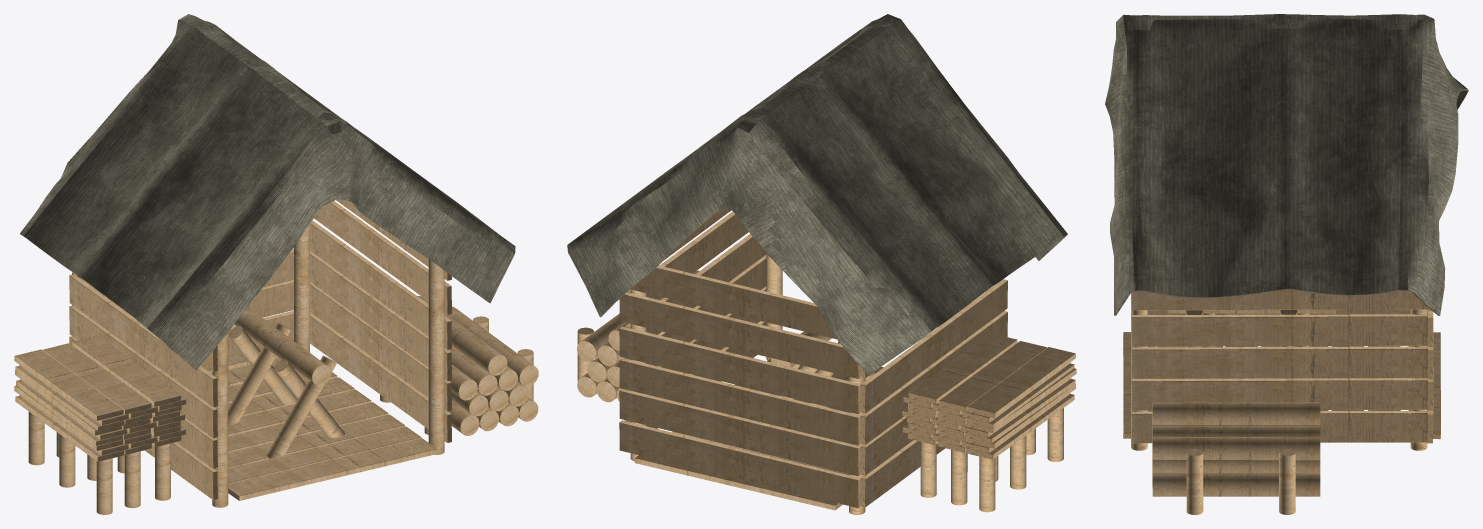
File: woodcutters_hut_stronghold_crusader_inspired.fbx
The picture shows the model from 3 angles, left to right: view 1: azimuth 30°, elevation 25°; view 2: azimuth 150°, elevation 25°; view 3: azimuth 270°, elevation 25°; orthographic projection. The views are drawn at different scales.
Parts seen in each view (by area): view 1: obj14, obj13, obj12, obj21, obj15, obj16, obj10, obj18, obj1, obj2, obj19, obj20 (+5 smaller); view 2: obj14, obj11, obj12, obj21, obj13, obj18, obj16, obj19, obj20, obj9, obj10; view 3: obj14, obj13, obj16, obj17, obj11, obj1, obj9, obj15, obj12, obj10.
Boxes of the visible parts, bbox=[...] form: obj14: bbox=[20, 14, 515, 370]; obj13: bbox=[310, 199, 451, 442]; obj12: bbox=[69, 274, 217, 500]; obj21: bbox=[14, 335, 186, 431]; obj15: bbox=[228, 307, 344, 458]; obj16: bbox=[417, 296, 538, 435]; obj10: bbox=[77, 224, 444, 507]; obj18: bbox=[28, 412, 170, 514]; obj1: bbox=[228, 438, 437, 500]; obj2: bbox=[228, 426, 421, 483]; obj19: bbox=[14, 385, 185, 461]; obj20: bbox=[15, 370, 185, 445]; obj14: bbox=[567, 14, 1067, 375]; obj11: bbox=[619, 265, 860, 507]; obj12: bbox=[860, 279, 1007, 507]; obj21: bbox=[903, 333, 1075, 428]; obj13: bbox=[624, 209, 766, 428]; obj18: bbox=[920, 408, 1063, 512]; obj16: bbox=[577, 270, 699, 402]; obj19: bbox=[903, 384, 1075, 459]; obj20: bbox=[902, 368, 1076, 443]; obj9: bbox=[634, 455, 842, 510]; obj10: bbox=[630, 253, 1000, 514]; obj14: bbox=[1105, 14, 1468, 315]; obj13: bbox=[1131, 289, 1427, 443]; obj16: bbox=[1152, 402, 1320, 496]; obj17: bbox=[1186, 402, 1295, 514]; obj11: bbox=[1427, 307, 1433, 443]; obj1: bbox=[1123, 332, 1155, 438]; obj9: bbox=[1408, 332, 1440, 439]; obj15: bbox=[1168, 310, 1335, 347]; obj12: bbox=[1147, 309, 1410, 314]; obj10: bbox=[1131, 293, 1427, 450].
Bounding box in the file's own units: 402 × 318 × 275.
2 materials, 2 textured.
